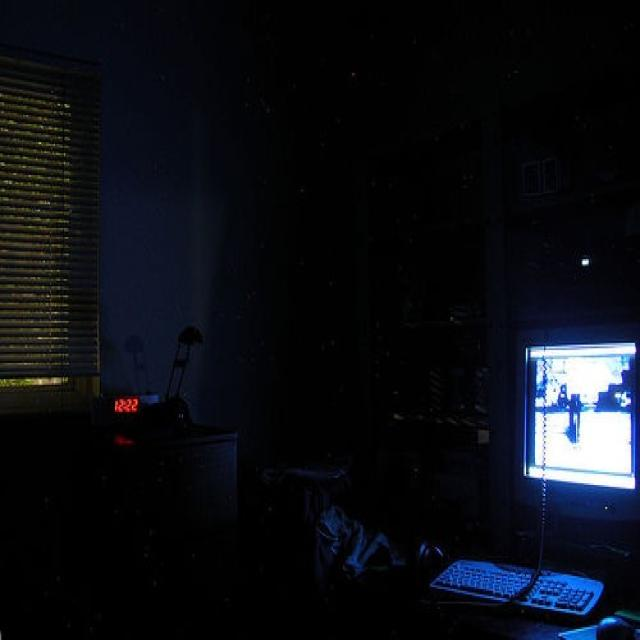tvmonitor: (512, 326, 639, 522)
